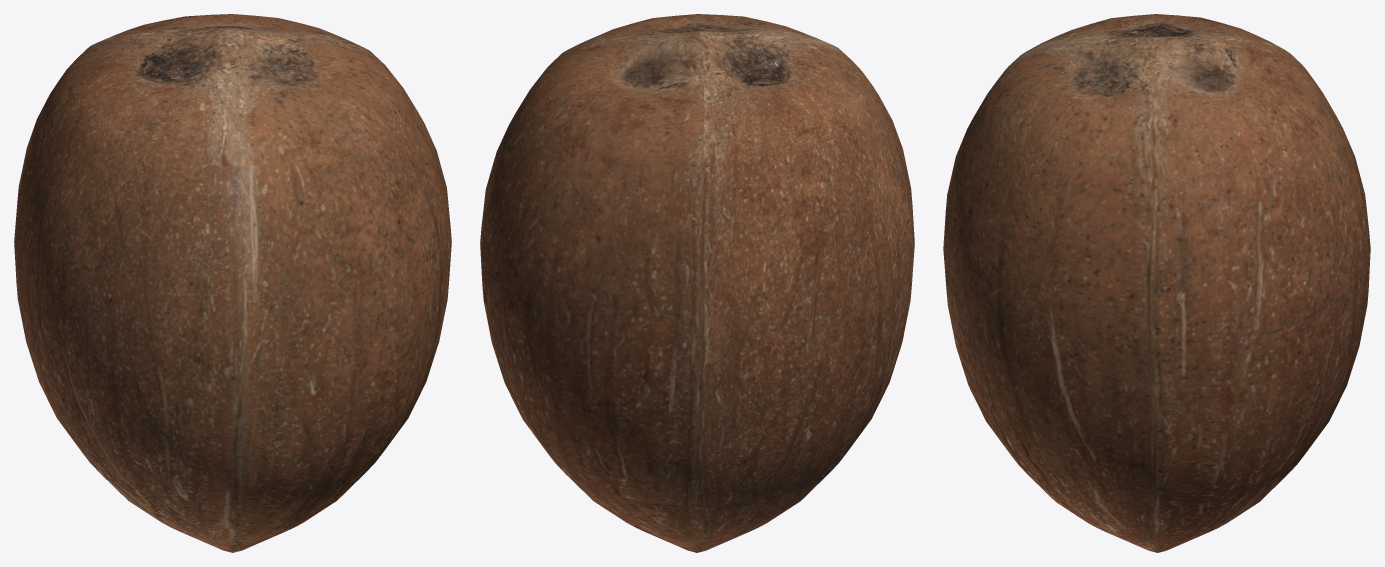
The model's file is coconut.obj.
The picture shows the model from 3 angles, left to right: view 1: azimuth 30°, elevation 25°; view 2: azimuth 150°, elevation 25°; view 3: azimuth 270°, elevation 25°; orthographic projection. The views are drawn at different scales.
Parts seen in each view (by area): view 1: pSphere4_blinn1_0; view 2: pSphere4_blinn1_0; view 3: pSphere4_blinn1_0.
Boxes of the visible parts, <box> form: pSphere4_blinn1_0: <box>14,14,451,552</box>; pSphere4_blinn1_0: <box>480,14,914,552</box>; pSphere4_blinn1_0: <box>943,14,1370,552</box>.
Size of the model in its own units: 1.92 by 2.48 by 1.88.
